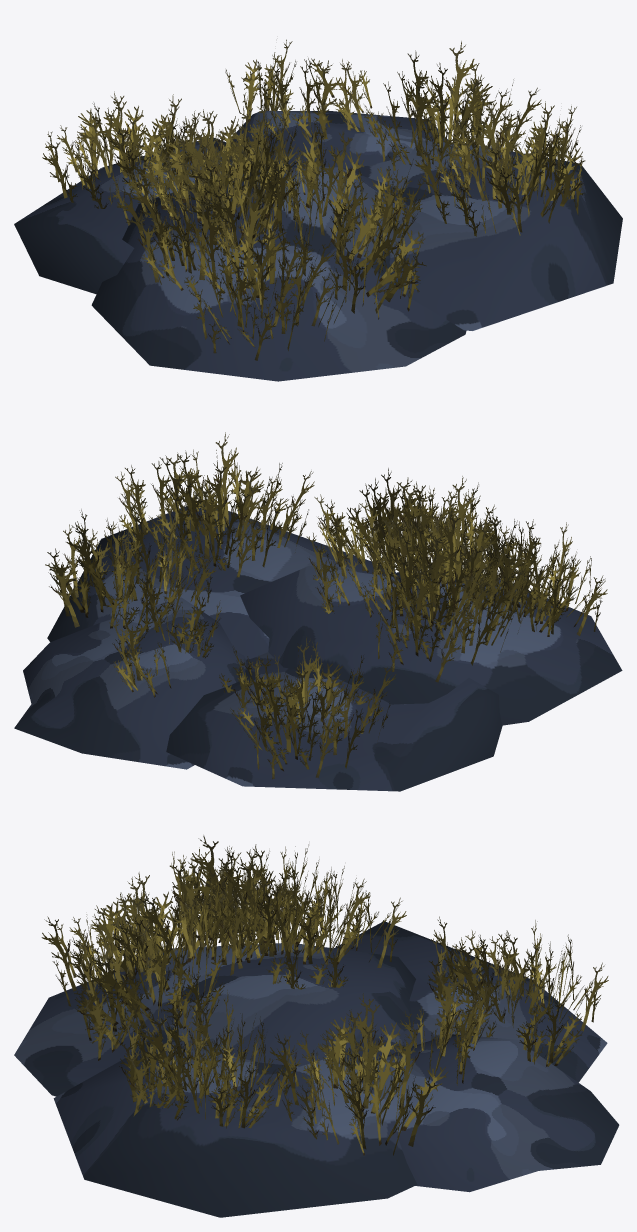
Rendered from Staghorn Coral 6_preview_3DS_simplified.glb.
The picture shows the model from 3 angles, top to bottom: view 1: azimuth 30°, elevation 25°; view 2: azimuth 150°, elevation 25°; view 3: azimuth 270°, elevation 25°; orthographic projection. The views are drawn at different scales.
Visible parts, largest first — view 1: Marine Park Empire model; view 2: Marine Park Empire model; view 3: Marine Park Empire model.
Boxes of the visible parts, x1,y1,x2,y2 form: Marine Park Empire model: [14, 39, 622, 381]; Marine Park Empire model: [14, 432, 622, 791]; Marine Park Empire model: [14, 835, 619, 1217].
Size of the model in its own units: 196 by 80.02 by 193.
2 materials, 2 textured.
